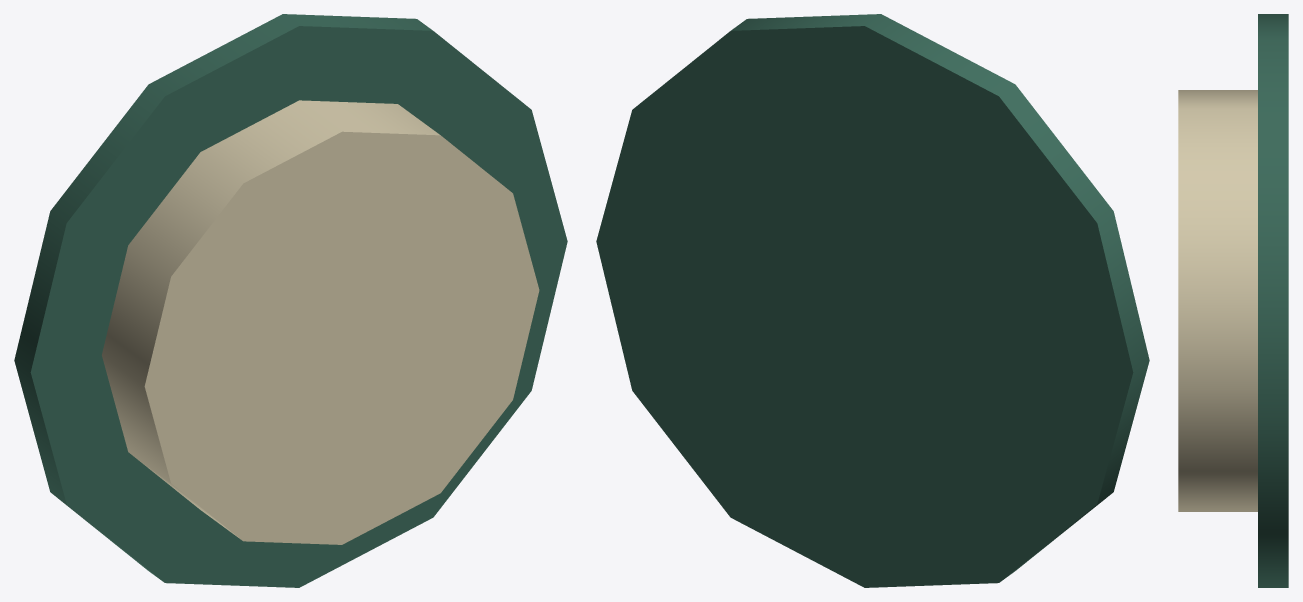
File: cargo4800_coupler_aft.obj
3 renders of one model, left to right at view 1: azimuth 30°, elevation 25°; view 2: azimuth 150°, elevation 25°; view 3: azimuth 270°, elevation 25°, orthographic. The views are drawn at different scales.
Visible parts, largest first — view 1: cargo4800_coupler_aft; view 2: cargo4800_coupler_aft; view 3: cargo4800_coupler_aft.
Part boxes in pixels (bbox=[...]): cargo4800_coupler_aft: bbox=[14, 14, 567, 587]; cargo4800_coupler_aft: bbox=[596, 14, 1149, 587]; cargo4800_coupler_aft: bbox=[1178, 14, 1288, 587].
Bounding box in the file's own units: 3.4 × 3.4 × 0.65.
